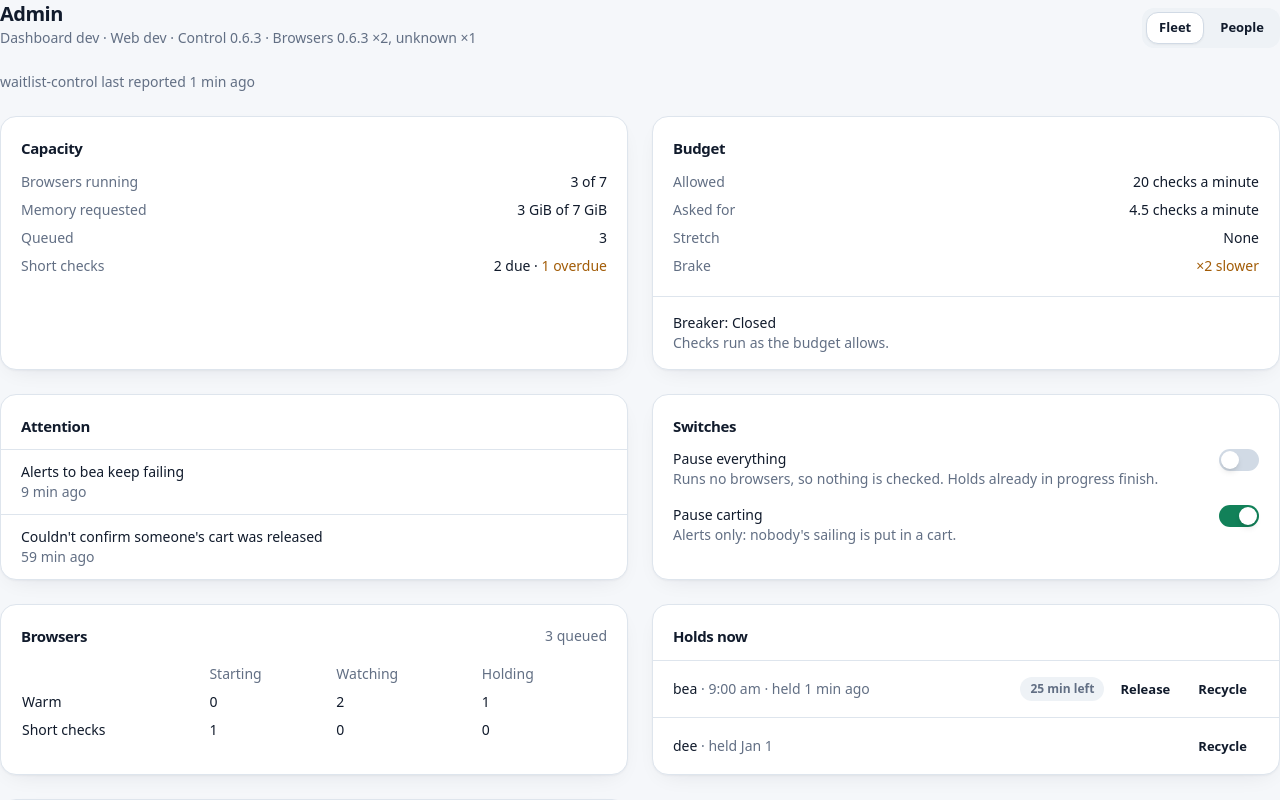
Scenario: fleet › asks why before flipping a switch, and sends the reason
The width and height of the screenshot is (1280, 800).
Expected: the text "Runs no browsers, so nothing is checked. Holds already in progress finish." is shown, [673,469,1158,489]
Expected: the switch named "Pause carting" in the row of "Pause carting" is checked, [1219,505,1259,527]
Click the switch named "Pause everything" in the row of "Pause everything". click: coordinates (1239, 460)
box: [1219,449,1259,471]
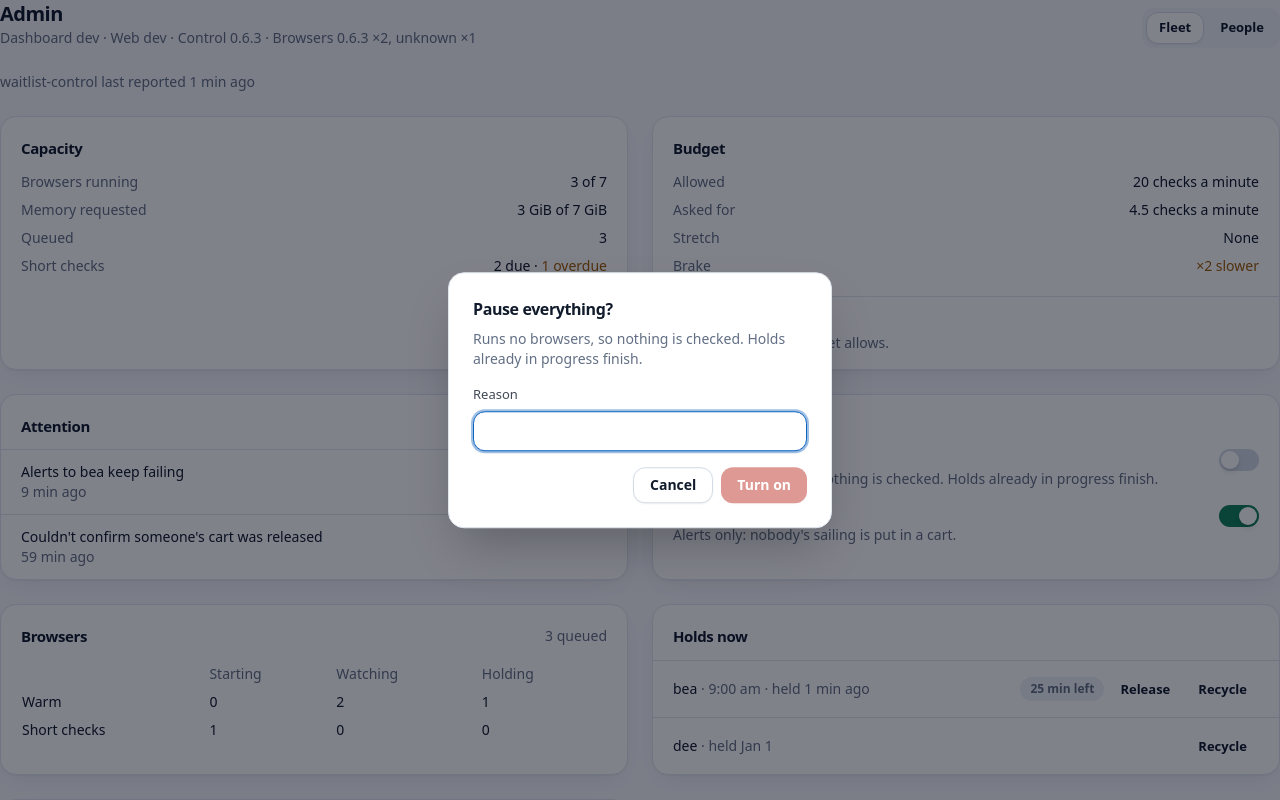
Result: the button "Turn on" is disabled at [721,467,807,503]
Type "Node upgrade" into the field labelled "Reason". click: coordinates (640, 431)
box: [473,411,807,451]
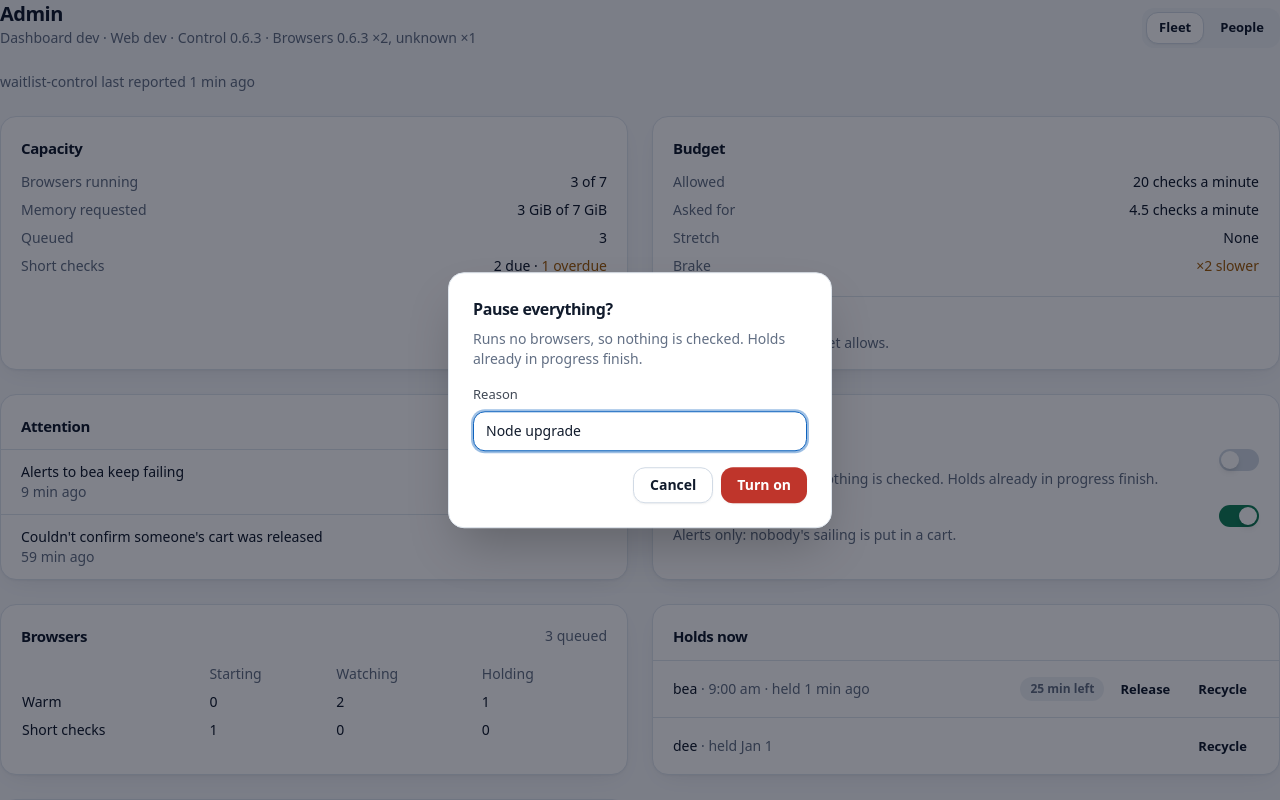
Click the button "Turn on". click: coordinates (764, 485)
box: [721,467,807,503]
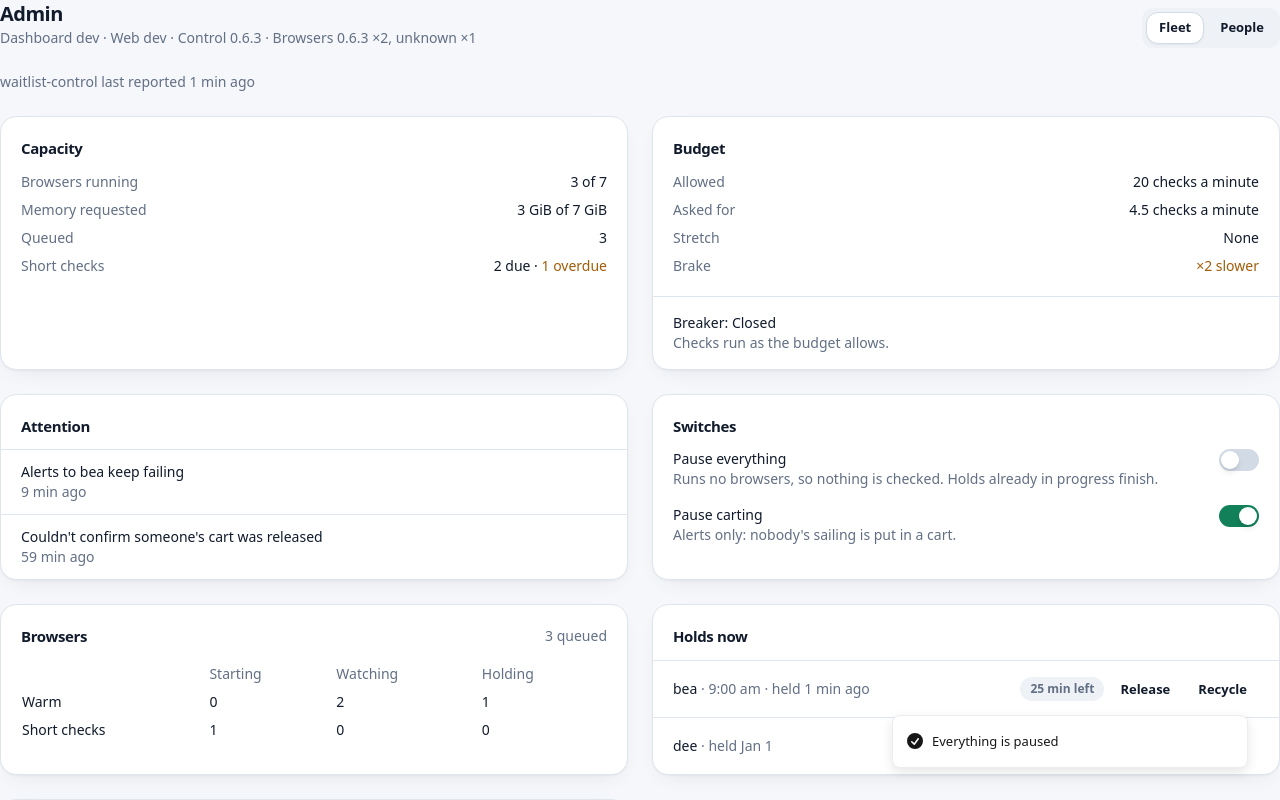
Result: the dialog is gone
Result: the text "Everything is paused" is shown at [932,732,1058,751]
